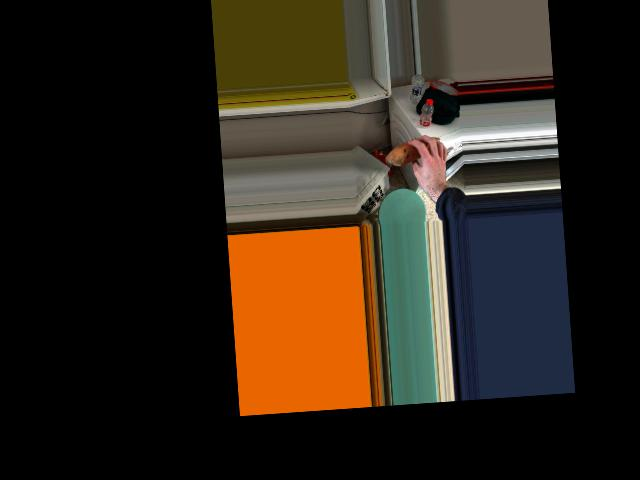sweet_potato: (385, 135, 444, 165)
